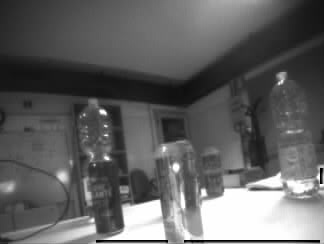Bottle: (276, 70, 318, 195), (77, 98, 111, 159)
Tin can: (158, 141, 203, 242), (90, 161, 123, 233), (202, 148, 223, 195)
